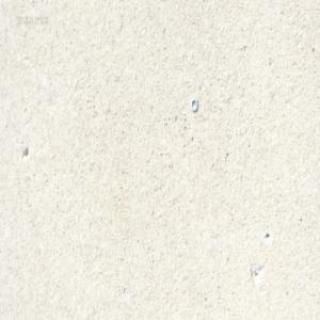Washertrack_idkeyframe: (189, 96, 197, 112)
